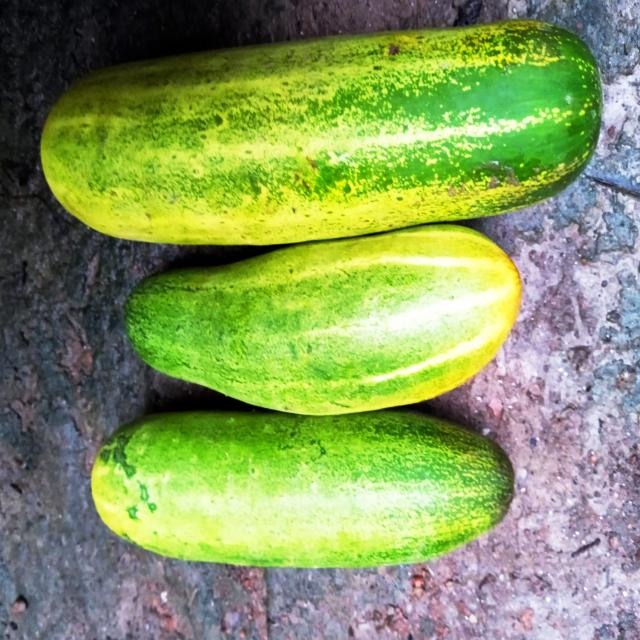Fresh-Cucumber: (42, 18, 603, 251), (122, 220, 525, 418), (90, 413, 516, 571)
